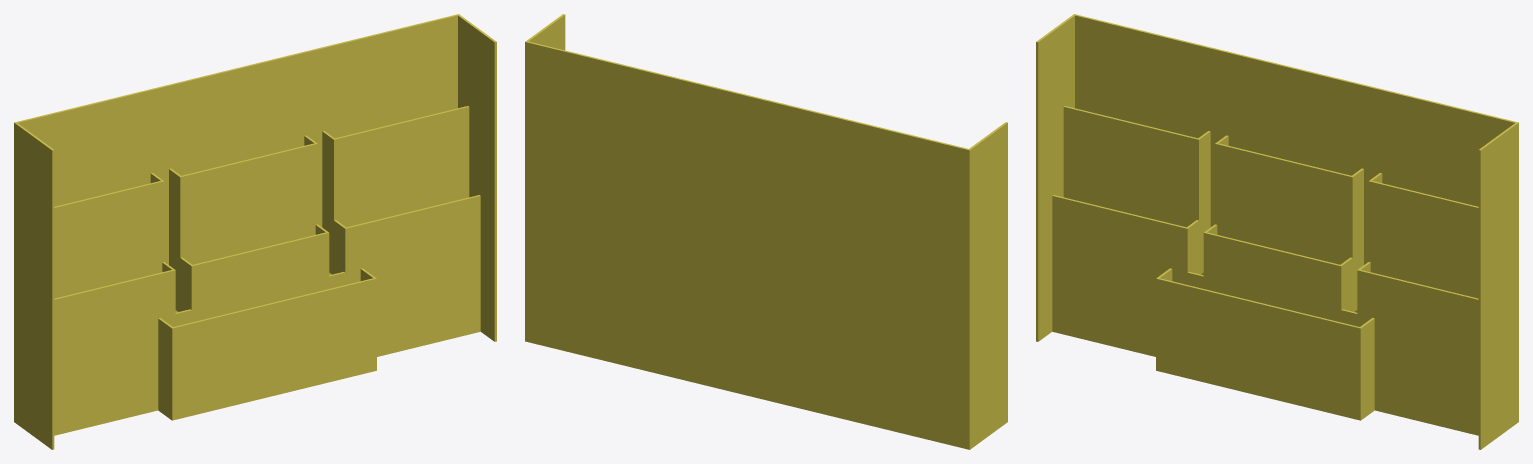
File: lvdm_insert.glb
The picture shows the model from 3 angles, left to right: view 1: azimuth 30°, elevation 25°; view 2: azimuth 150°, elevation 25°; view 3: azimuth 330°, elevation 25°; orthographic projection.
Parts seen in each view (by area): view 1: Mesh_Mesh_head_geo.001_lambert2SG.001; view 2: Mesh_Mesh_head_geo.001_lambert2SG.001; view 3: Mesh_Mesh_head_geo.001_lambert2SG.001.
Boxes of the visible parts, x1,y1,x2,y2 form: Mesh_Mesh_head_geo.001_lambert2SG.001: (14, 14, 496, 449); Mesh_Mesh_head_geo.001_lambert2SG.001: (525, 14, 1007, 449); Mesh_Mesh_head_geo.001_lambert2SG.001: (1036, 14, 1518, 449).
Size of the model in its own units: 0.202 by 0.13 by 0.03.
